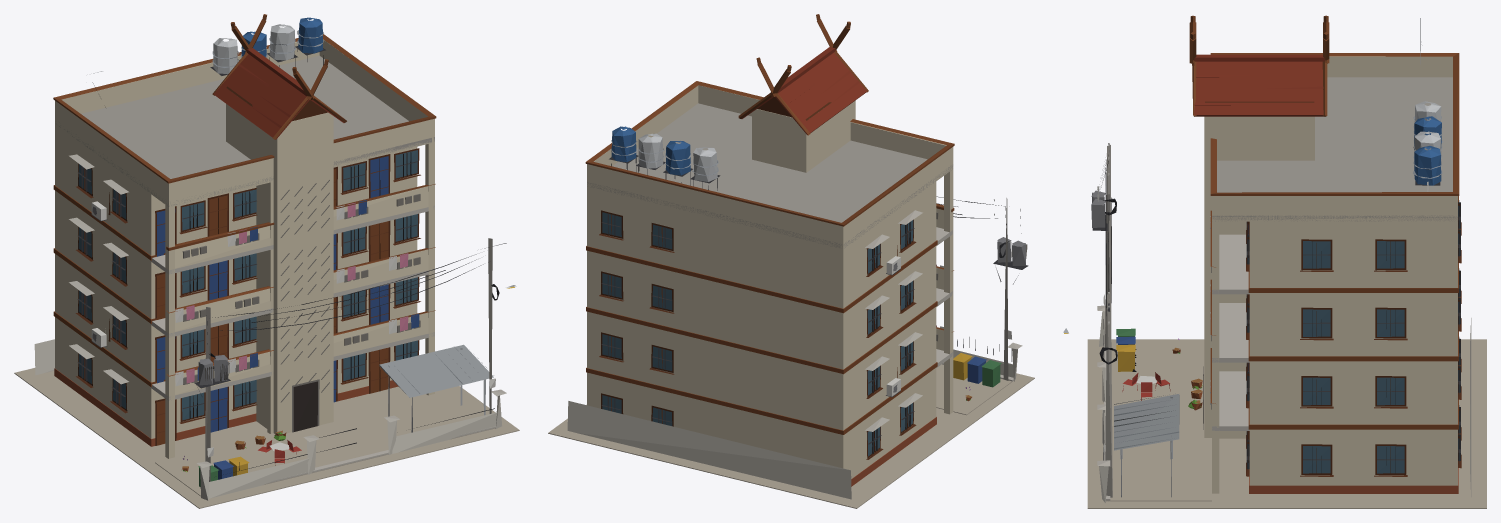
File: home_4.glb
The picture shows the model from 3 angles, left to right: view 1: azimuth 30°, elevation 25°; view 2: azimuth 150°, elevation 25°; view 3: azimuth 270°, elevation 25°; orthographic projection. The views are drawn at different scales.
Visible parts, largest first — view 1: body, windows; view 2: body, windows; view 3: body, windows.
Boxes of the visible parts, box(x1,y1,x2,y2) form: body: box(14, 14, 519, 508); windows: box(78, 150, 514, 431); body: box(548, 14, 1034, 508); windows: box(602, 212, 913, 456); body: box(1063, 15, 1486, 508); windows: box(1064, 200, 1459, 473).
Bounding box in the file's own units: 15.9 × 17.77 × 16.88.
